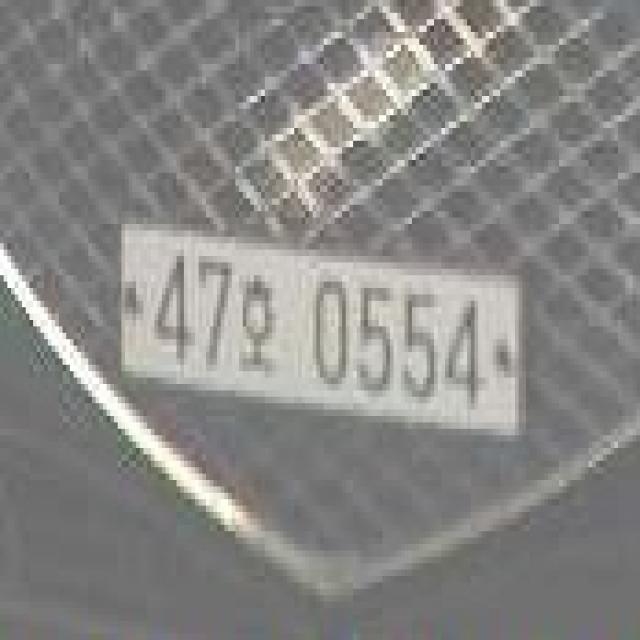plat: (118, 225, 529, 437)
